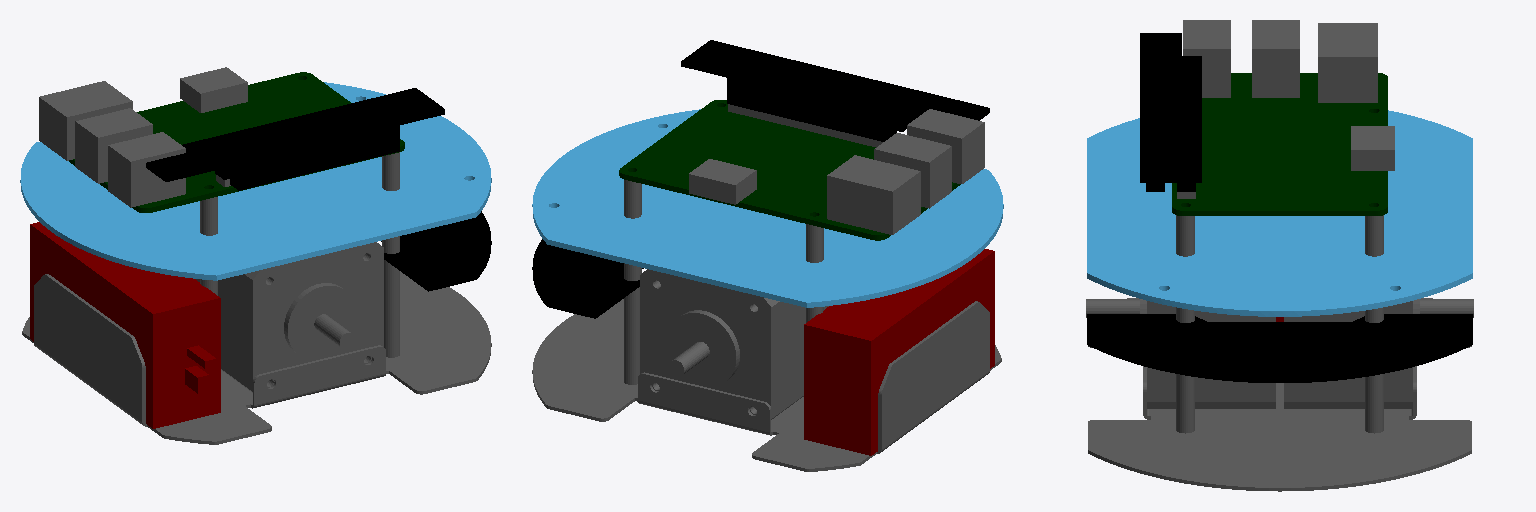
The robot description file, URDF, robot "raspimouse":
<?xml version="1.0"?>
<robot name="raspimouse">
  <link name="base_footprint"/>

  <joint name="base_joint" type="fixed">
    <origin xyz="0 0 0.00185"/>
    <parent link="base_footprint"/>
    <child link="base_link"/>
  </joint>

  <link name="base_link">
     <visual>
      <geometry>
        <mesh filename="package://raspimouse_description/meshes/dae/body/raspimouse_body.dae"/>
      </geometry>
    </visual>
  </link>

  <joint name="left_wheel_joint" type="continuous">
    <origin xyz="0 0.0425 0.02215" rpy="-1.57 0 0"/>
    <axis xyz="0 0 1"/> 
    <parent link="base_link"/>
    <child link="left_wheel_link"/>
  </joint>
  
  <link name="left_wheel_link">
     <visual>
      <geometry>
        <mesh filename="package://raspimouse_description/meshes/dae/wheel/raspimouse_wheel.dae"/>
      </geometry>
    </visual>
  </link>
  
  <joint name="right_wheel_joint" type="continuous">
    <origin xyz="0 -0.0425 0.02215" rpy="1.57 0 0"/>
    <axis xyz="0 0 1"/> 
    <parent link="base_link"/>
    <child link="right_wheel_link"/>
  </joint>
  
  <link name="right_wheel_link">
     <visual>
      <geometry>
        <mesh filename="package://raspimouse_description/meshes/dae/wheel/raspimouse_wheel.dae"/>
      </geometry>
    </visual>
  </link>
</robot>

--- Render facts (derived) ---
Views: 3 orthographic renders of the robot side by side, from view 1: azimuth 30°, elevation 25°; view 2: azimuth 150°, elevation 25°; view 3: azimuth 270°, elevation 25°.
Model raspimouse with 4 links and 3 joints (2 continuous, 1 fixed), rooted at base_footprint, posed all joints at 0.
Visible links, largest first — view 1: base_link; view 2: base_link; view 3: base_link.
Link boxes in pixels (bbox=[...]): base_link: bbox=[20, 67, 491, 444]; base_link: bbox=[532, 40, 1003, 471]; base_link: bbox=[1086, 20, 1473, 491].
Size in the robot's own frame: 0.13 by 0.101 by 0.0793 metres.
1 mesh visuals loaded from 2 distinct referenced files (1 Collada DAE); not drawn: 2 (reference not matched to a file when rendering).